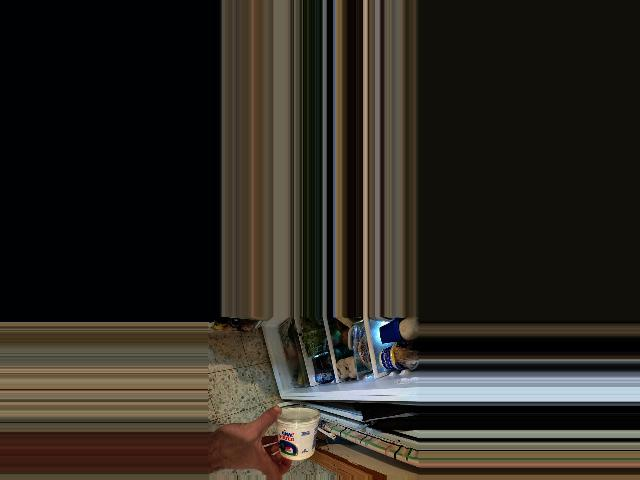cotage: (275, 416, 310, 461)
